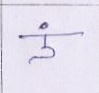anusvara: (41, 23, 48, 29)
